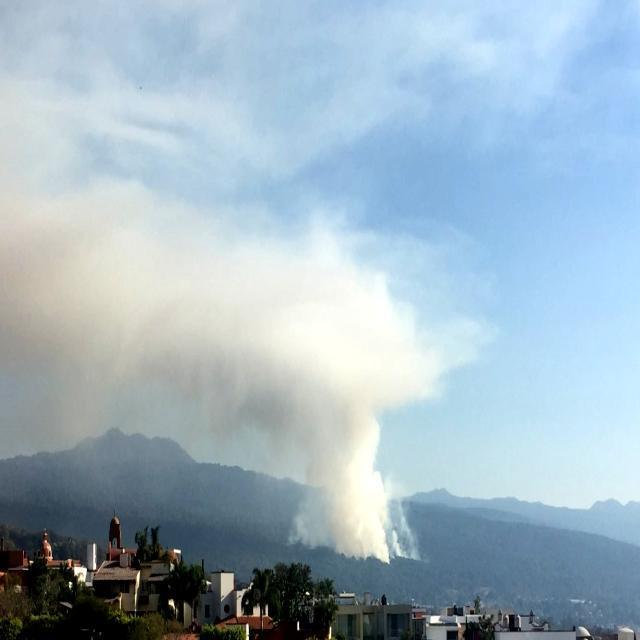Smoke: (0, 141, 410, 564)
